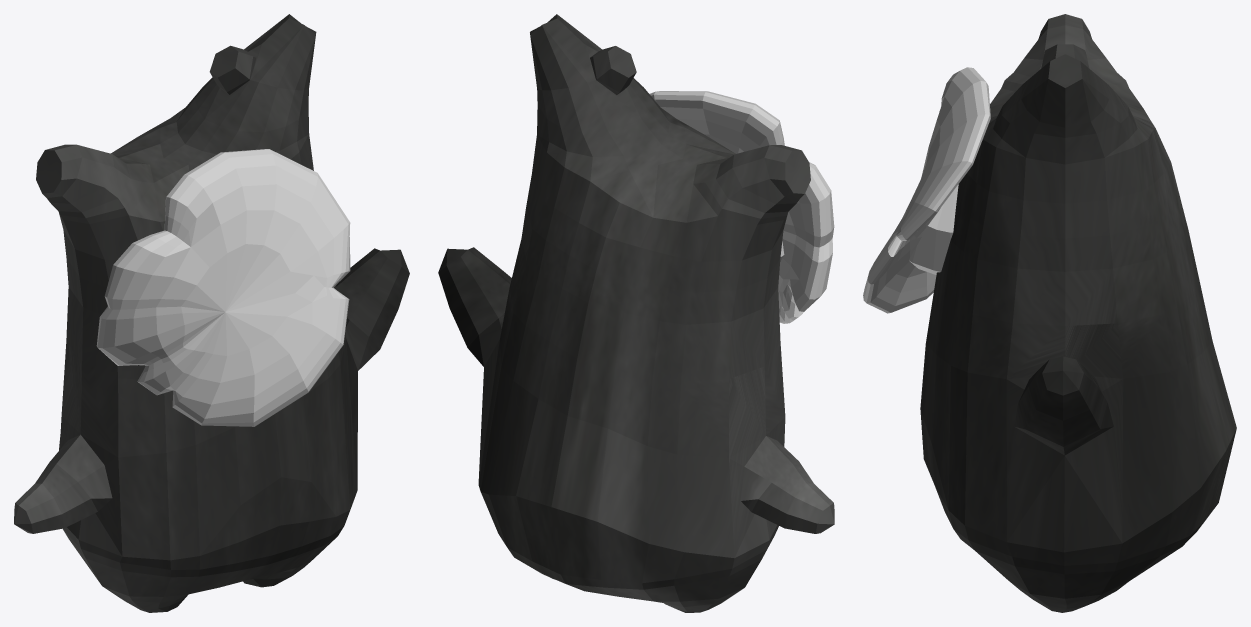
Rendered from frame_0035.obj.
The picture shows the model from 3 angles, left to right: view 1: azimuth 30°, elevation 25°; view 2: azimuth 150°, elevation 25°; view 3: azimuth 270°, elevation 25°; orthographic projection.
Parts seen in each view (by area): view 1: korok, leaf; view 2: korok, leaf; view 3: korok, leaf, nose.
Part boxes in pixels (bbox=[...]): korok: bbox=[14, 14, 409, 612]; leaf: bbox=[96, 149, 350, 426]; korok: bbox=[438, 14, 834, 612]; leaf: bbox=[649, 91, 834, 323]; korok: bbox=[920, 14, 1236, 612]; leaf: bbox=[863, 67, 990, 313]; nose: bbox=[909, 184, 958, 274].
Size of the model in its own units: 1.69 by 2.31 by 1.38.
